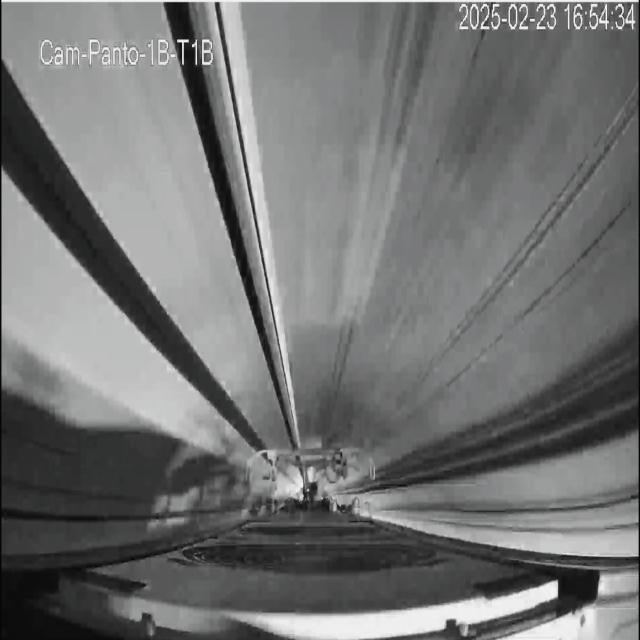Camera Stamp: (37, 31, 216, 70)
Date Stamp: (458, 3, 636, 33)
